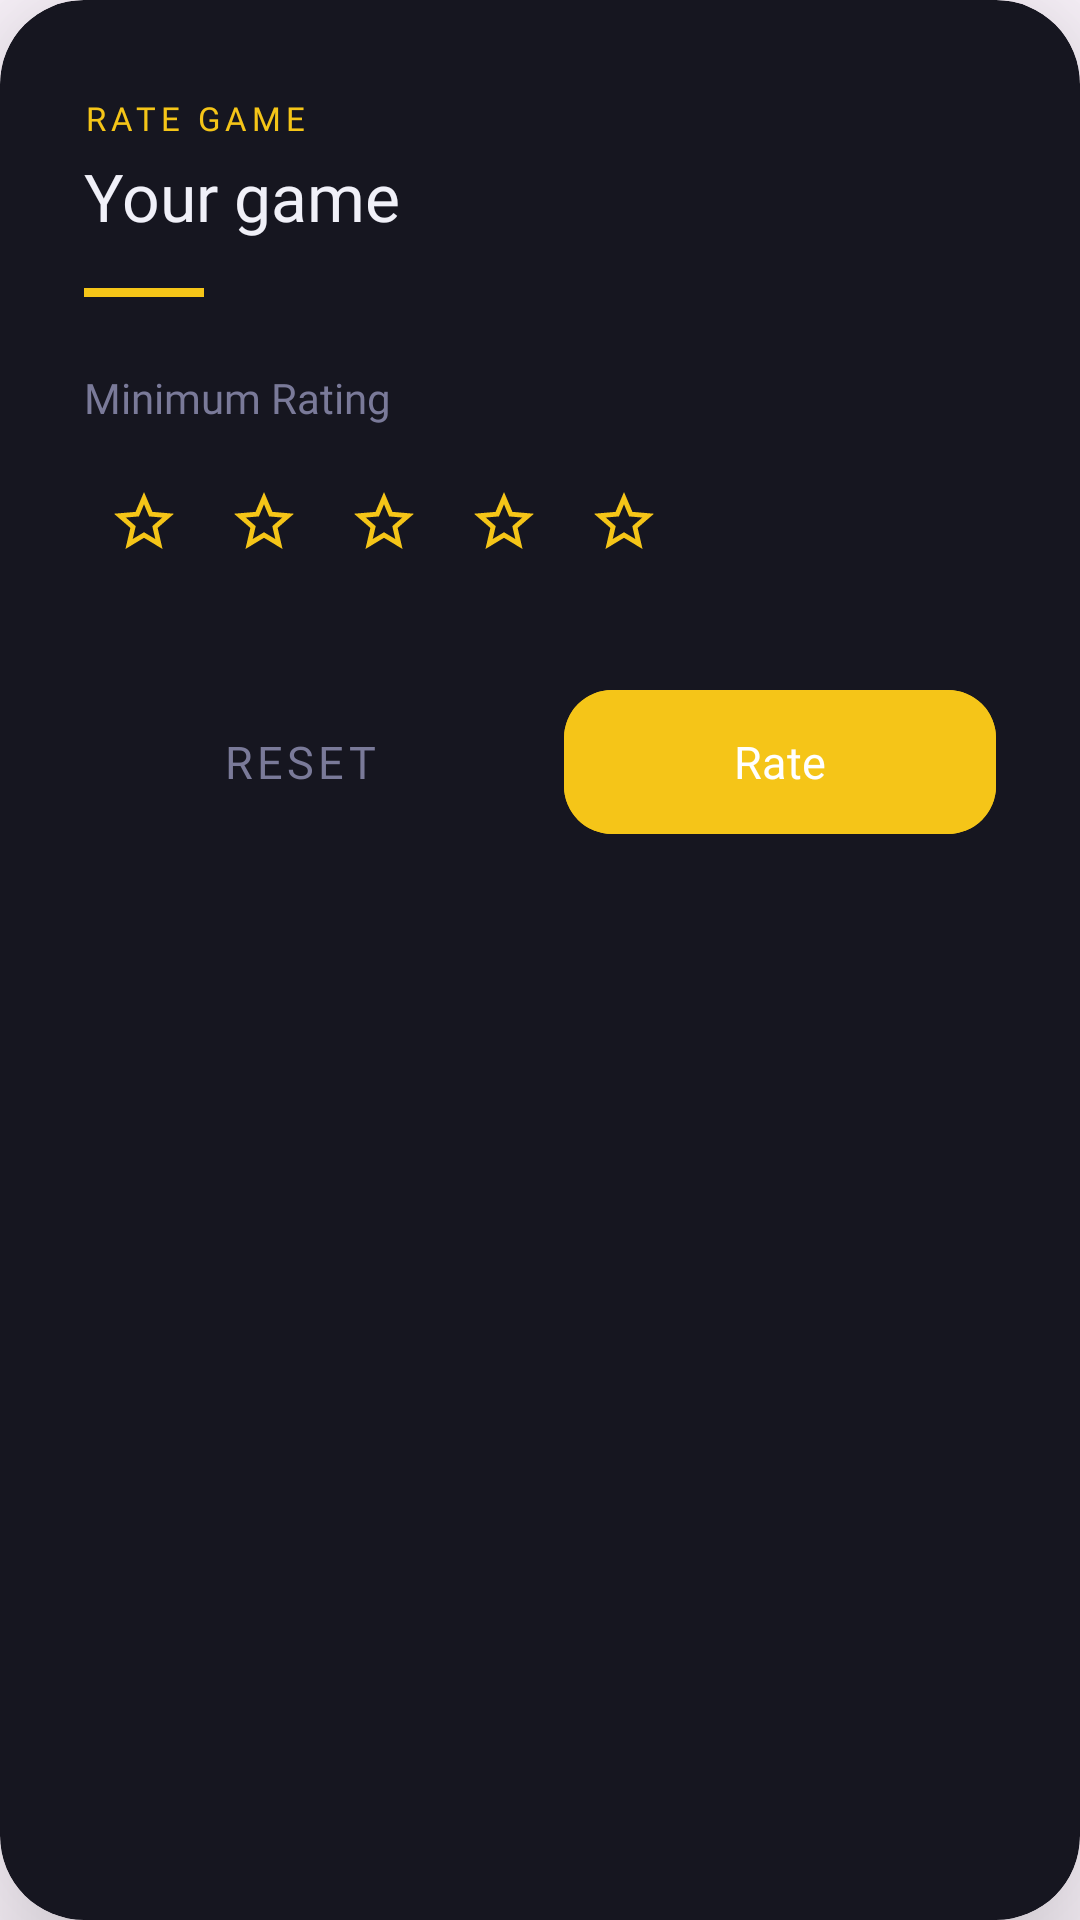

Point at icon controls on the screen. Image size 1080x1920, points as point (x, y).
1 star: point (144, 520)
2 stars: point (264, 520)
3 stars: point (384, 520)
4 stars: point (504, 520)
5 stars: point (624, 520)
